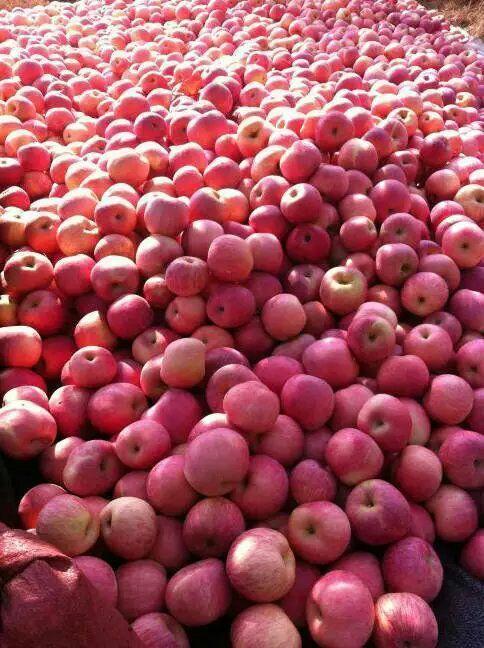apple: (305, 568, 377, 646), (183, 427, 252, 500), (224, 527, 293, 600), (345, 479, 412, 543), (166, 555, 231, 618), (99, 497, 164, 560), (35, 491, 100, 554), (285, 501, 351, 563), (215, 378, 280, 437), (62, 436, 125, 493), (227, 601, 302, 646), (379, 591, 438, 647), (275, 373, 334, 424), (326, 428, 385, 479), (1, 402, 56, 456), (88, 381, 145, 431), (357, 394, 408, 448), (393, 444, 442, 497), (425, 373, 474, 426), (117, 560, 166, 612), (317, 263, 366, 314), (160, 335, 207, 386), (395, 271, 449, 315), (305, 339, 359, 383), (208, 282, 258, 329), (103, 292, 154, 338), (118, 421, 169, 467), (262, 294, 307, 344), (444, 433, 484, 489), (89, 254, 138, 299), (405, 322, 450, 370), (377, 355, 428, 396), (67, 347, 117, 387), (441, 220, 484, 266)
